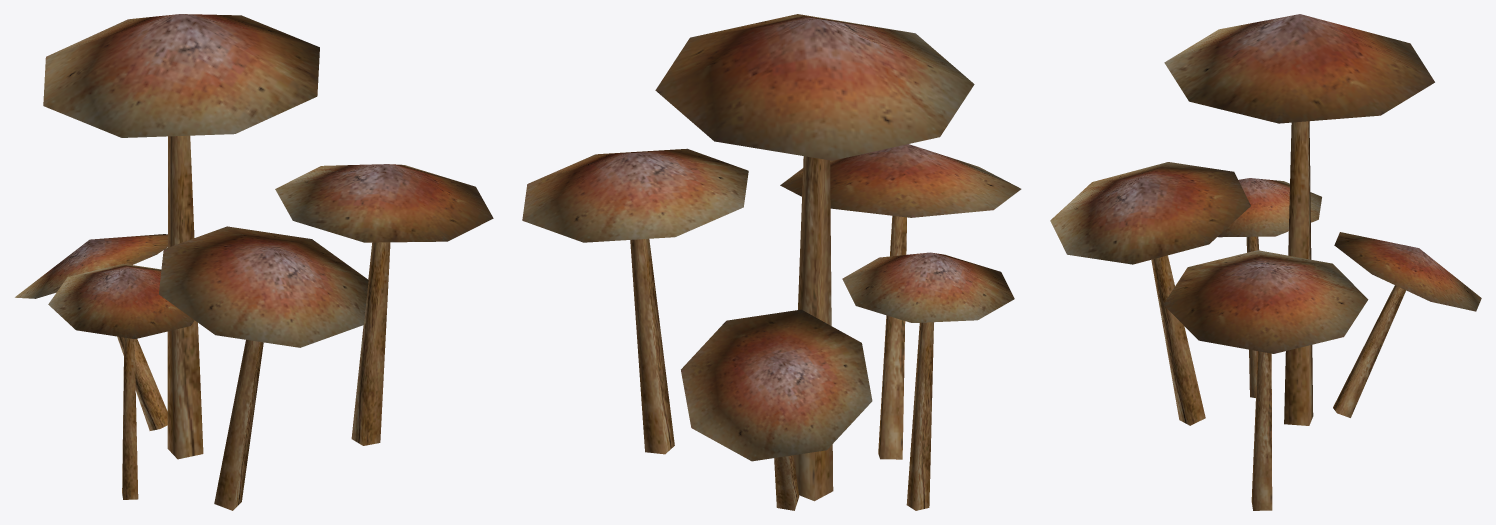
File: MK4_Trop_Shrooms1.DAE
The picture shows the model from 3 angles, left to right: view 1: azimuth 30°, elevation 25°; view 2: azimuth 150°, elevation 25°; view 3: azimuth 270°, elevation 25°; orthographic projection. The views are drawn at different scales.
Visible parts, largest first — view 1: MK4_Trop_Shrooms1; view 2: MK4_Trop_Shrooms1; view 3: MK4_Trop_Shrooms1.
Boxes of the visible parts, left/top/right/bottom form: MK4_Trop_Shrooms1: left=15, top=14, right=493, bottom=510; MK4_Trop_Shrooms1: left=522, top=14, right=1021, bottom=510; MK4_Trop_Shrooms1: left=1050, top=14, right=1481, bottom=510.
Size of the model in its own units: 0.6179 by 0.588 by 0.6289.
